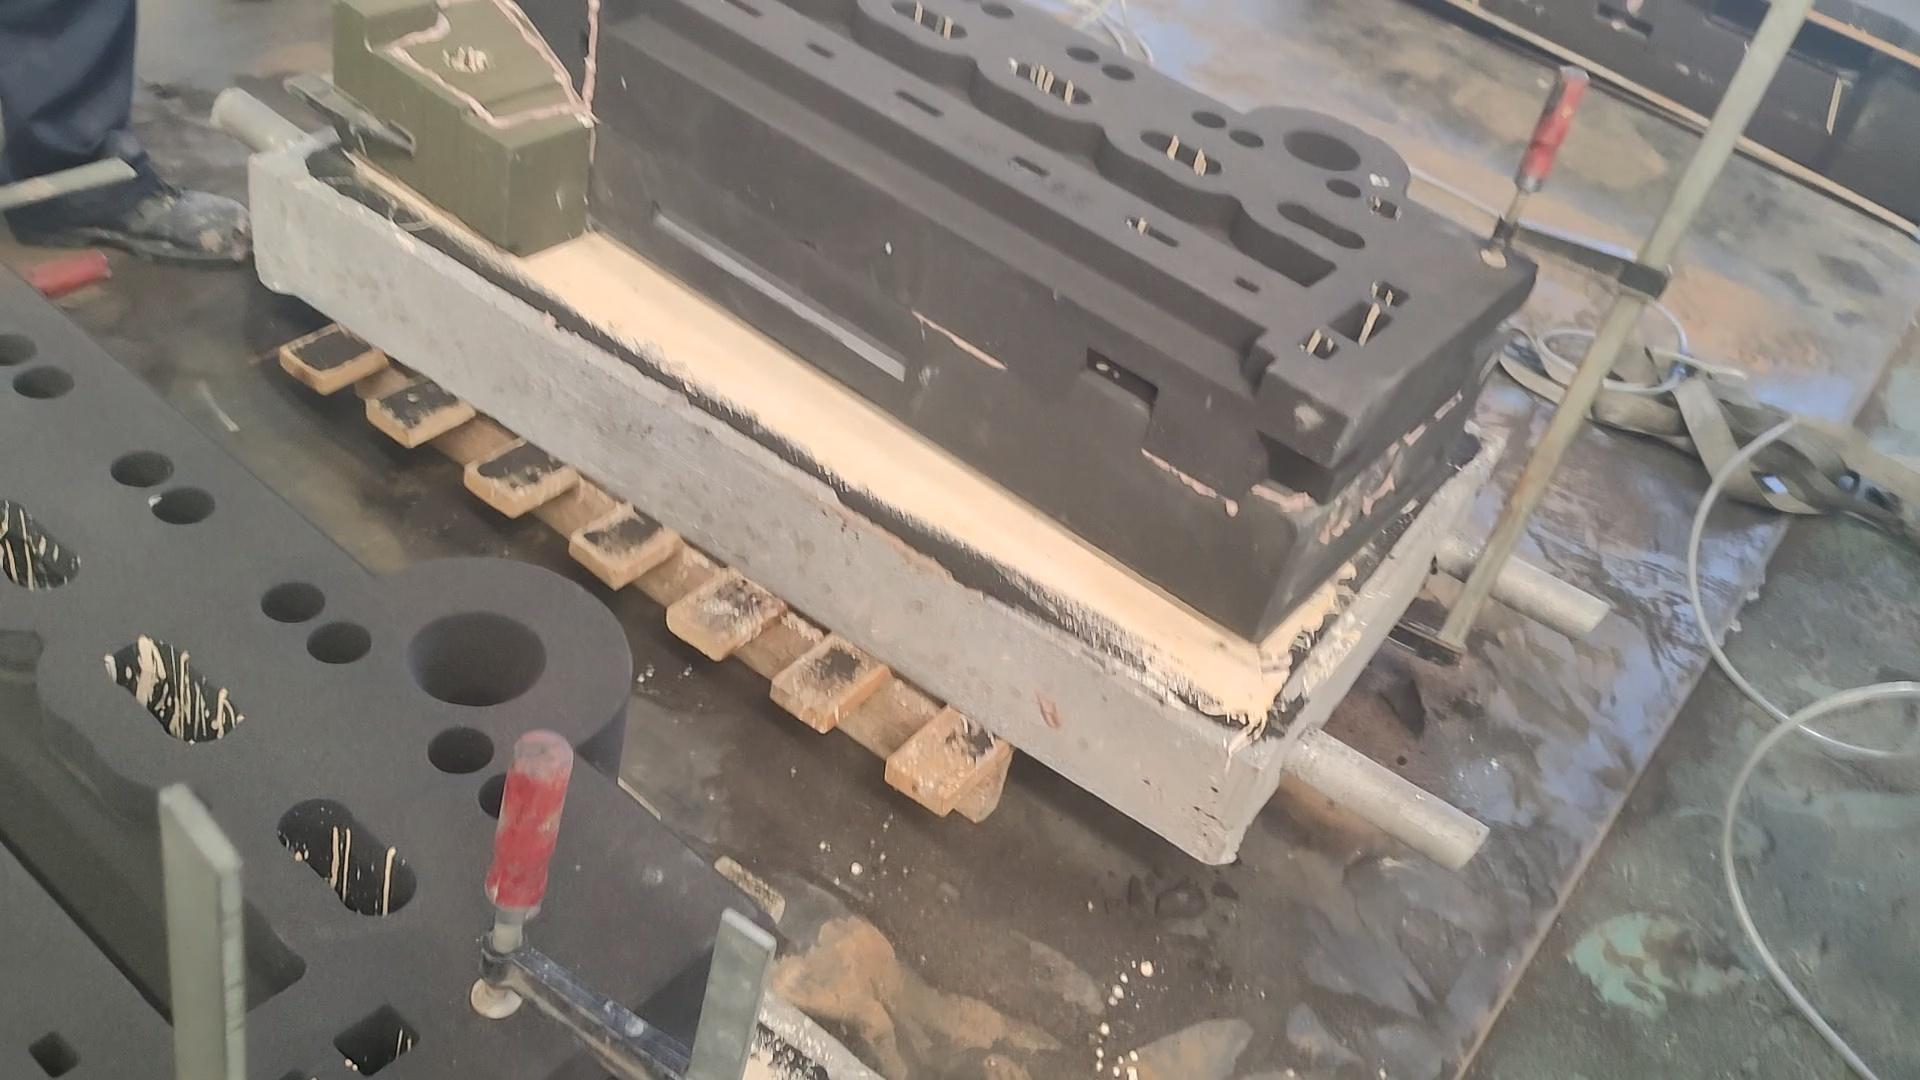pouring hole: (407, 611, 546, 709), (1284, 127, 1362, 175)
